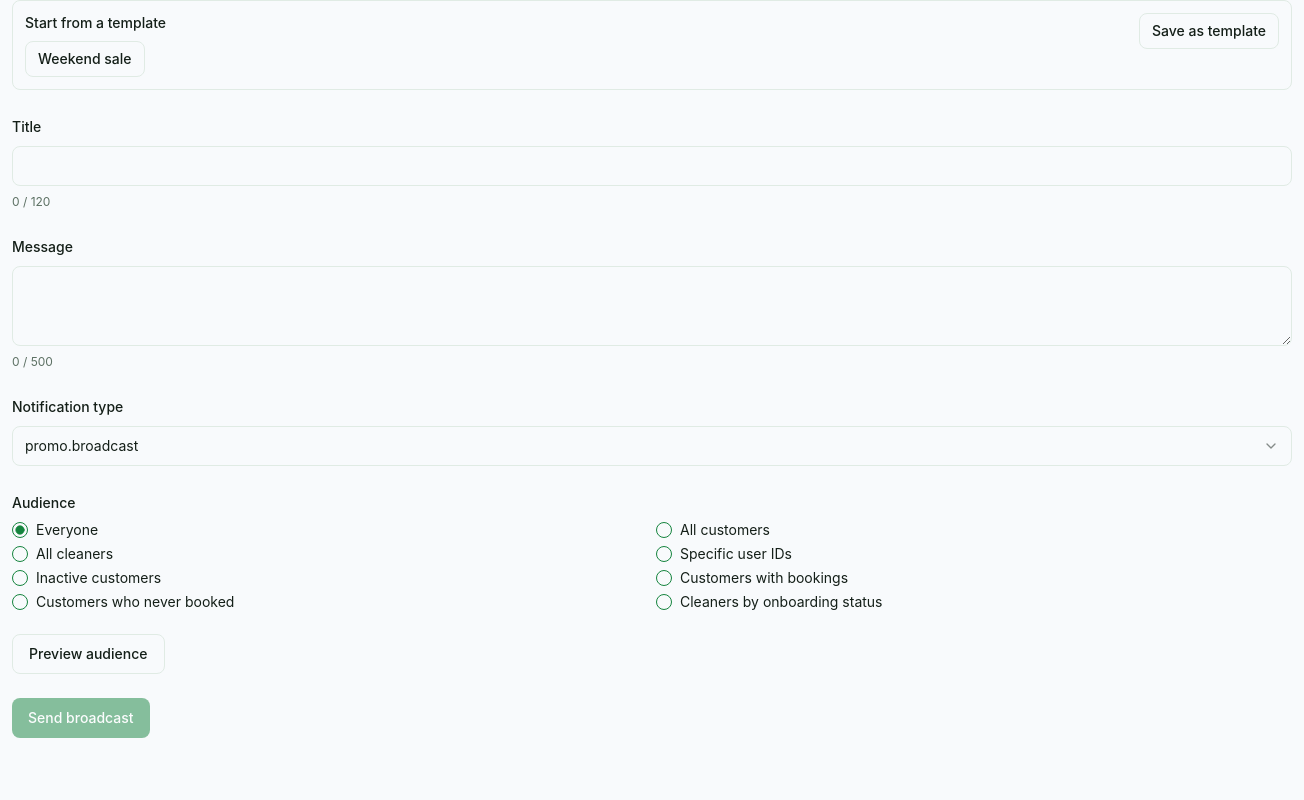
Scenario: BroadcastComposer templates › applying a template fills title, body, type and audience
Click the button "Weekend sale". click: (85, 59)
box: [25,41,145,77]
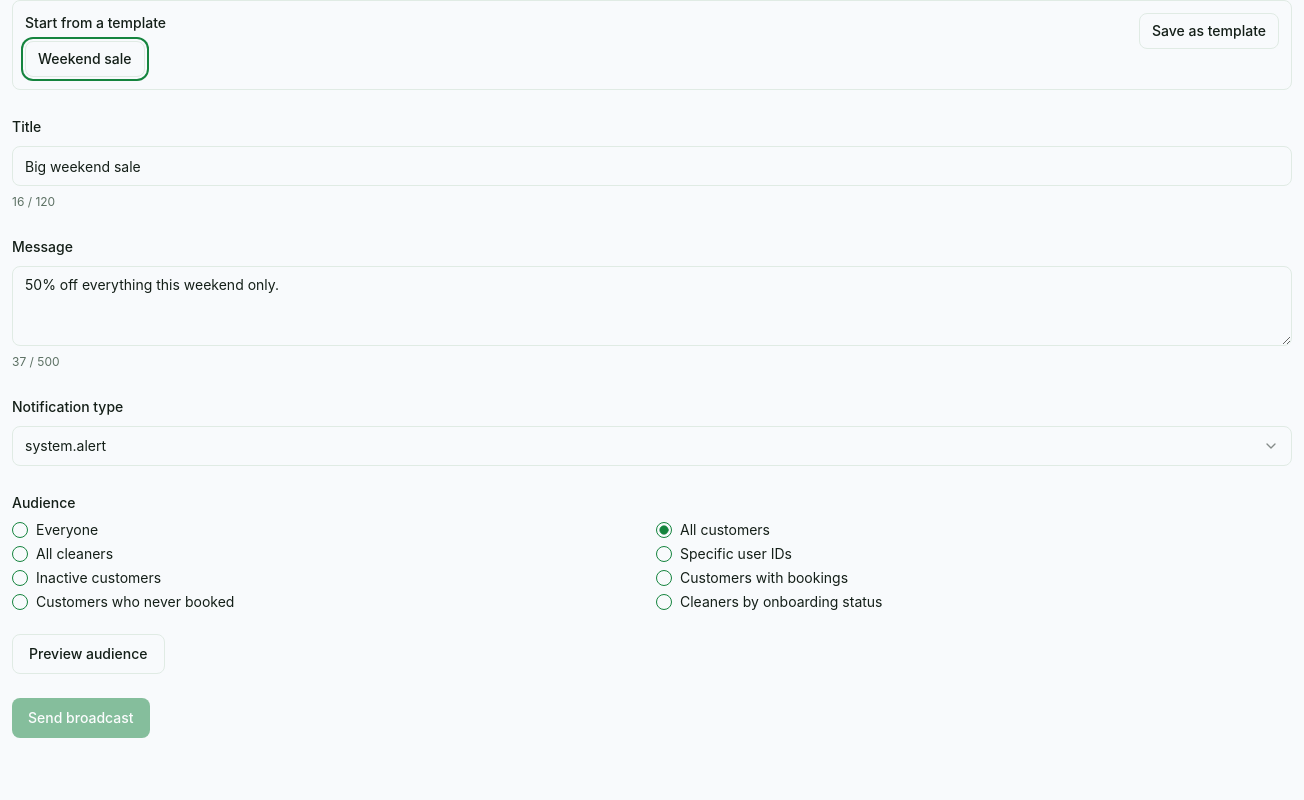
Expected: the field labelled "Title" holds "Big weekend sale", [12,146,1292,186]
Expected: the text box labelled "Message" holds "50% off everything this weekend only.", [12,266,1292,346]
Expected: the text "system.alert" is shown, [25,436,106,456]
